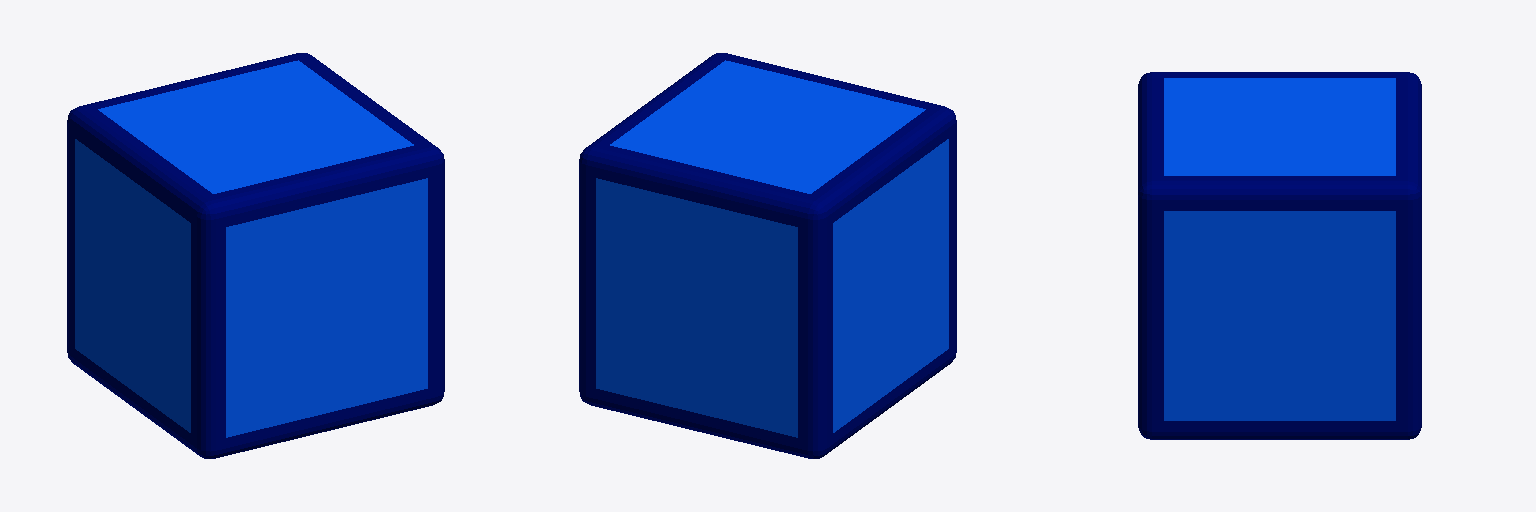
Rendered from fig1_cub_lightblue.obj.
3 renders of one model, left to right at view 1: azimuth 30°, elevation 25°; view 2: azimuth 150°, elevation 25°; view 3: azimuth 270°, elevation 25°, orthographic.
Visible parts, largest first — view 1: Cube; view 2: Cube; view 3: Cube.
Boxes of the visible parts, box(x1,y1,x2,y2) form: Cube: box(67, 53, 444, 458); Cube: box(579, 53, 956, 458); Cube: box(1138, 72, 1421, 439).
Size of the model in its own units: 2 by 2 by 2.